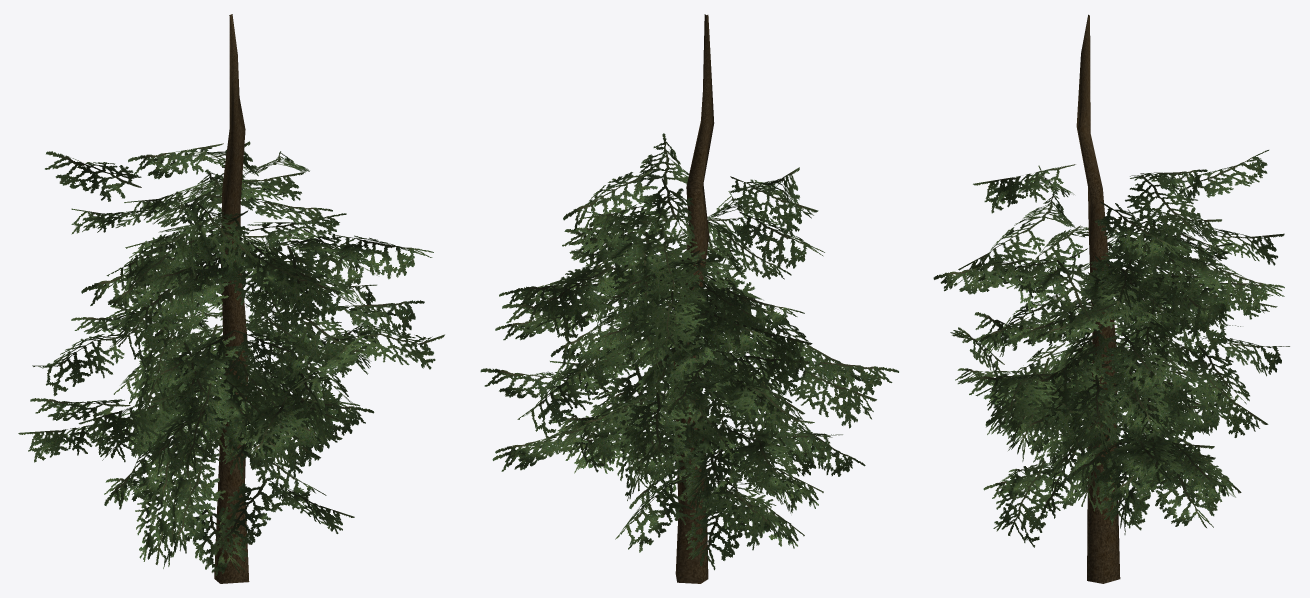
File: koknar_lod2.glb
The picture shows the model from 3 angles, left to right: view 1: azimuth 30°, elevation 25°; view 2: azimuth 150°, elevation 25°; view 3: azimuth 270°, elevation 25°; orthographic projection. The views are drawn at different scales.
Visible parts, largest first — view 1: koknar_lod2; view 2: koknar_lod2; view 3: koknar_lod2.
Part boxes in pixels (x1,y1,x2,y2): koknar_lod2: [18, 14, 444, 583]; koknar_lod2: [480, 14, 898, 583]; koknar_lod2: [933, 14, 1289, 583].
Size of the model in its own units: 5 by 7.37 by 4.38.
Materials: 2 (2 with a texture image).
